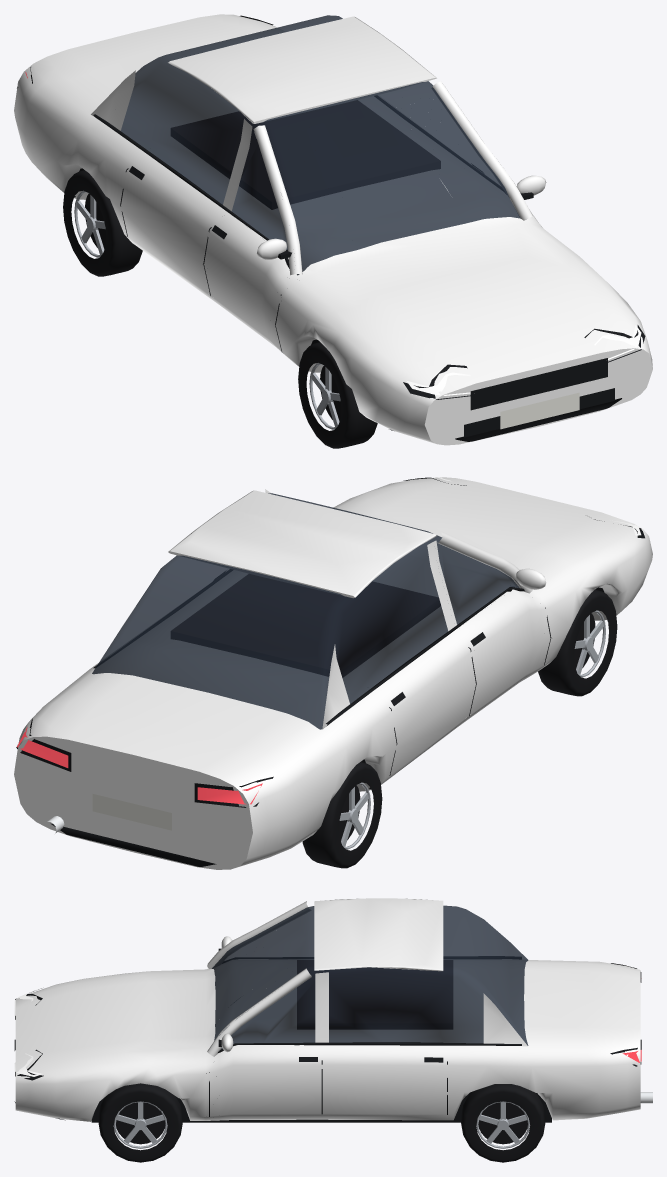
The model's file is norda_arlo.lod.glb.
3 renders of one model, top to bottom at view 1: azimuth 30°, elevation 25°; view 2: azimuth 150°, elevation 25°; view 3: azimuth 270°, elevation 25°, orthographic. The views are drawn at different scales.
Visible parts, largest first — view 1: body_paint, body_glass, body_trim, door_glass (×2), door_paint, tire (×2), rim (×2), headlights; view 2: body_paint, body_glass, body_trim, door_paint, tire (×2), door_glass, rim (×2), taillights; view 3: body_paint, body_glass, body_trim, door_paint, tire (×2), door_glass (×2), rim_back (×2), rim (×2).
Boxes of the visible parts, x1,y1,x2,y2 form: body_paint: (14,14,652,445); body_glass: (121,15,482,250); body_trim: (17,15,645,441); door_glass (×2): (231,81,520,275); door_paint: (200,125,299,354); tire (×2): (63,170,377,448); rim (×2): (74,190,340,430); headlights: (406,325,641,395); body_paint: (14,477,652,869); body_glass: (92,493,515,729); body_trim: (16,477,644,866); door_paint: (434,533,552,726); tire (×2): (302,589,617,868); door_glass: (427,532,521,624); rim (×2): (339,610,605,849); taillights: (17,727,262,804); body_paint: (15,898,640,1121); body_glass: (215,905,528,1045); body_trim: (14,956,641,1122); door_paint: (206,972,327,1120); tire (×2): (98,1083,545,1162); door_glass (×2): (211,907,315,1049); rim_back (×2): (116,1102,527,1144); rim (×2): (113,1101,529,1148).
Size of the model in its own units: 1.9 by 1.48 by 4.7.
